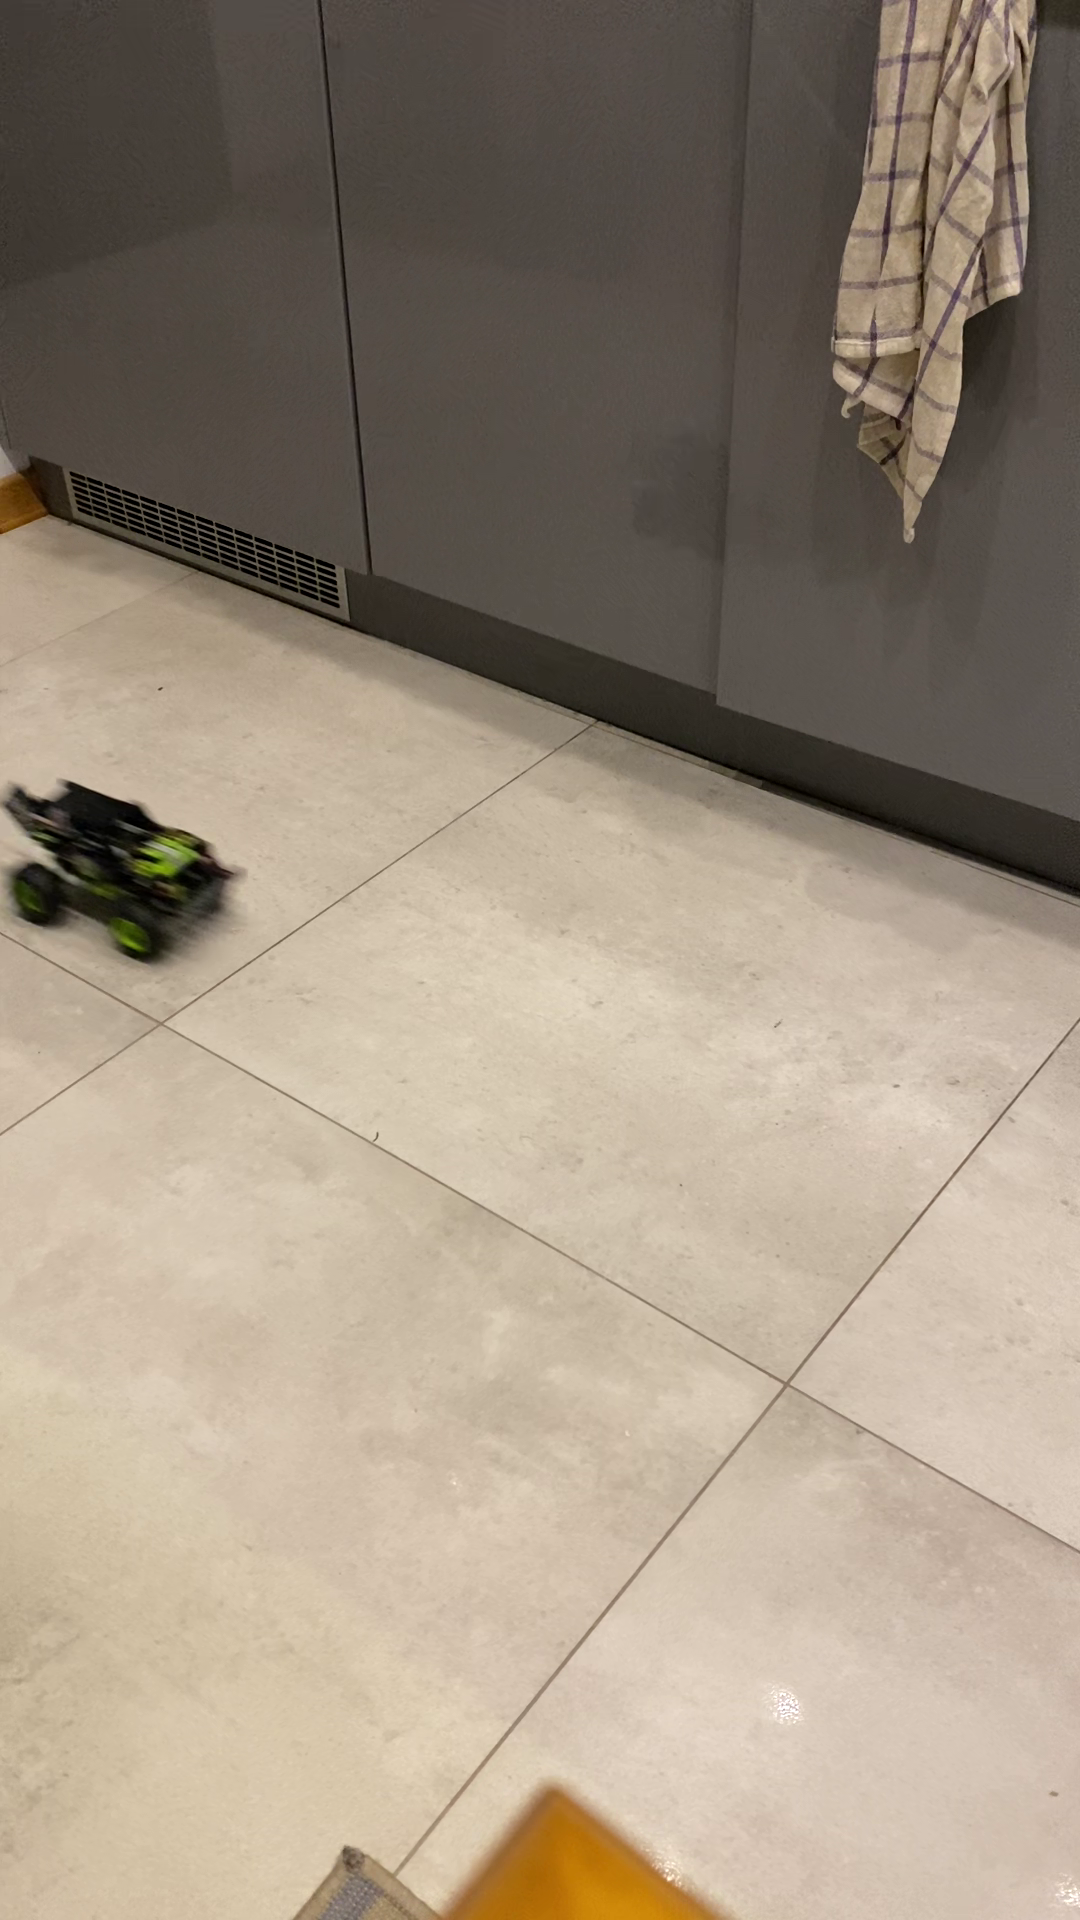car: (1, 777, 232, 972)
